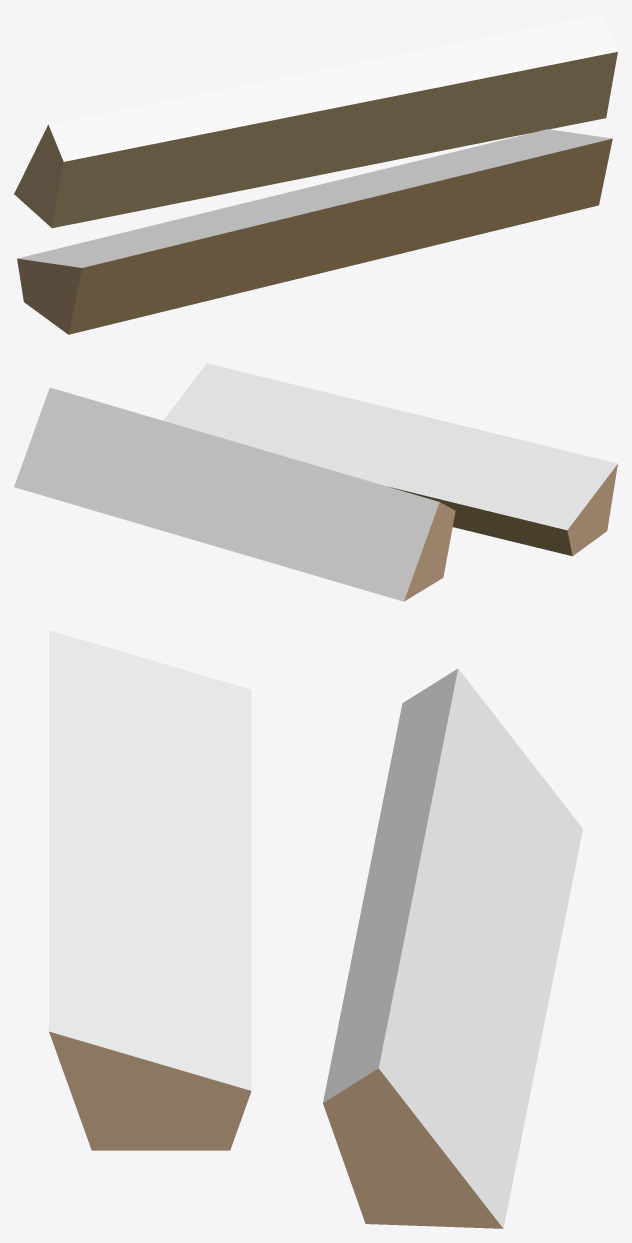
Rendered from Acacia_Firewood_Snow_06.fbx.
3 renders of one model, top to bottom at view 1: azimuth 30°, elevation 25°; view 2: azimuth 150°, elevation 25°; view 3: azimuth 270°, elevation 25°, orthographic. The views are drawn at different scales.
Parts seen in each view (by area): view 1: Acacia_Firewood_Snow_06; view 2: Acacia_Firewood_Snow_06; view 3: Acacia_Firewood_Snow_06.
Part boxes in pixels (<box>): Acacia_Firewood_Snow_06: <box>14,14,617,334</box>; Acacia_Firewood_Snow_06: <box>14,363,617,601</box>; Acacia_Firewood_Snow_06: <box>49,630,582,1228</box>.
Bounding box in the file's own units: 66.77 × 10.16 × 31.49.
